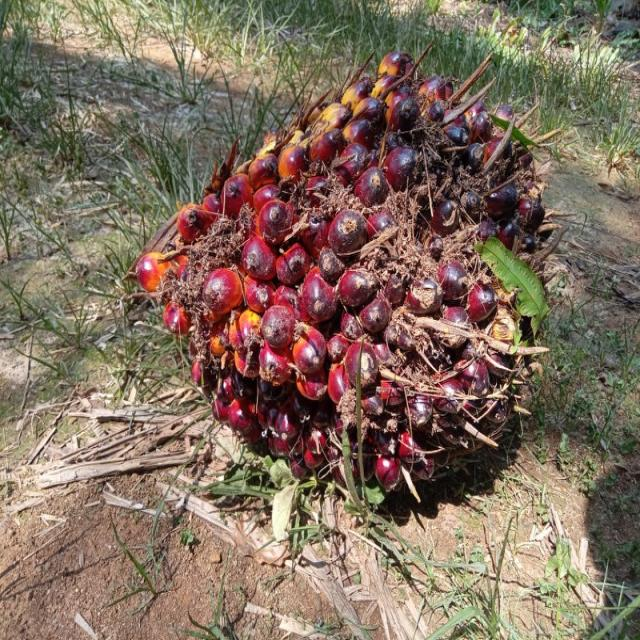fraksi 1: (128, 24, 561, 529)
